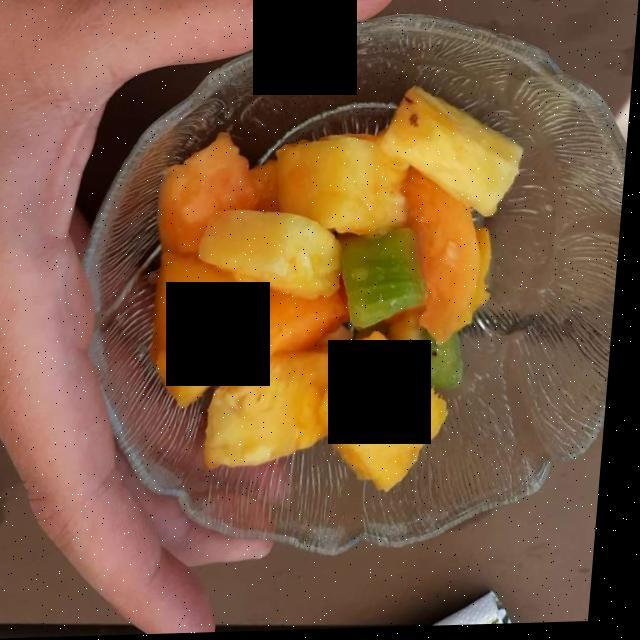fruit-salad: (161, 98, 518, 482)
